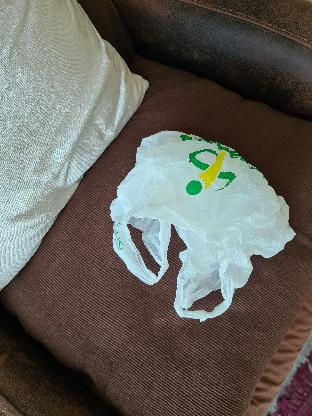Plastic Bag: (119, 131, 299, 317)
